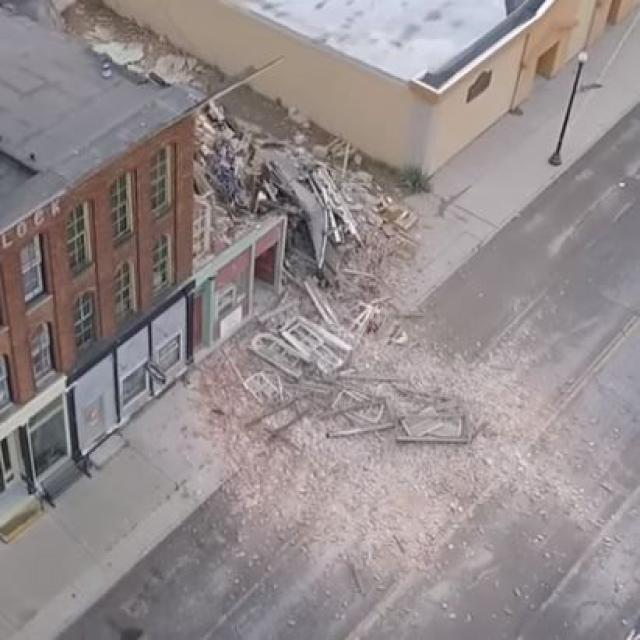collapsed_building: (164, 87, 392, 334)
